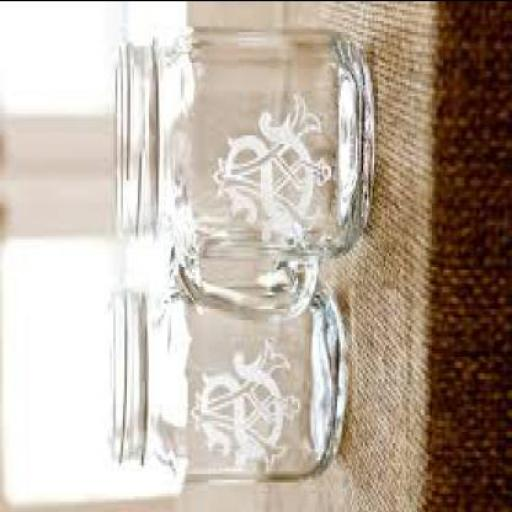glass: (113, 23, 377, 313), (108, 269, 345, 476)
